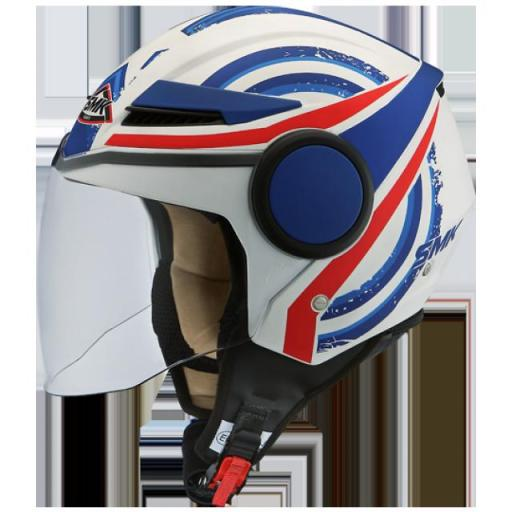Helmet: (40, 7, 474, 504)
